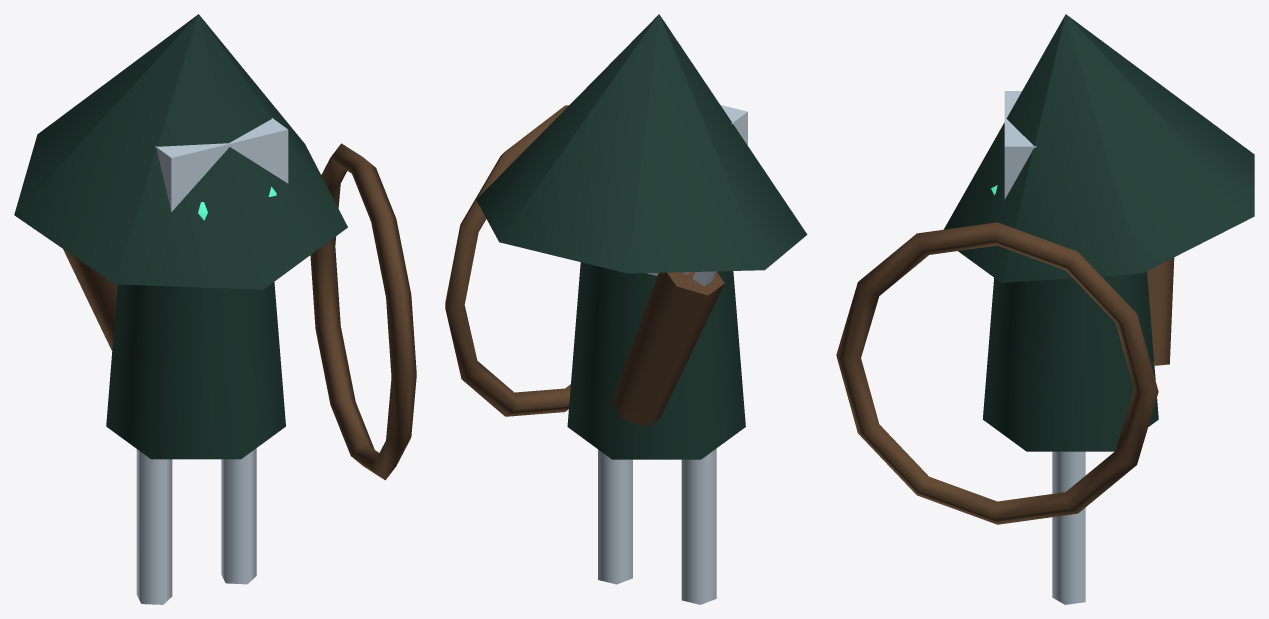
File: archer.glb
3 renders of one model, left to right at view 1: azimuth 30°, elevation 25°; view 2: azimuth 150°, elevation 25°; view 3: azimuth 270°, elevation 25°, orthographic. The views are drawn at different scales.
Parts seen in each view (by area): view 1: enemy_archer; view 2: enemy_archer; view 3: enemy_archer.
Part boxes in pixels (left/top/right/bottom): enemy_archer: left=14, top=14, right=416, bottom=604; enemy_archer: left=445, top=14, right=807, bottom=604; enemy_archer: left=836, top=14, right=1254, bottom=604.
Size of the model in its own units: 0.991 by 1.7 by 1.14.
